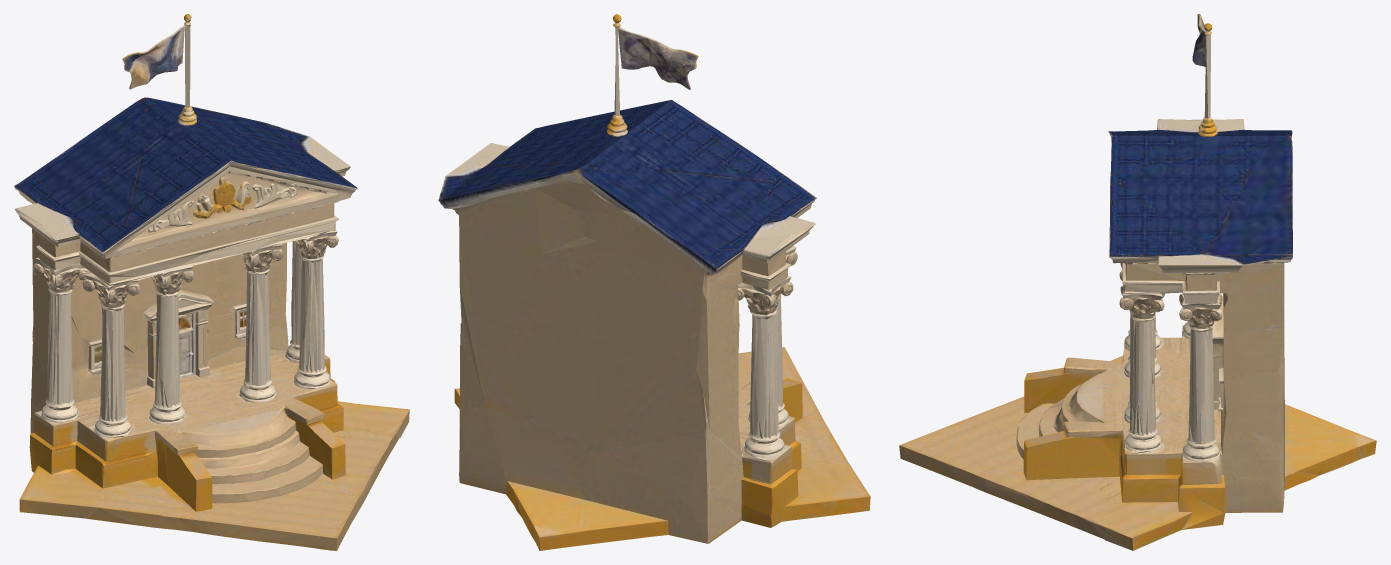
Rendered from hub_city_hall.glb.
The picture shows the model from 3 angles, left to right: view 1: azimuth 30°, elevation 25°; view 2: azimuth 150°, elevation 25°; view 3: azimuth 270°, elevation 25°; orthographic projection. The views are drawn at different scales.
Bounding box in the file's own units: 1.79 × 1.9 × 1.89.
Materials: 1 (1 with a texture image).
